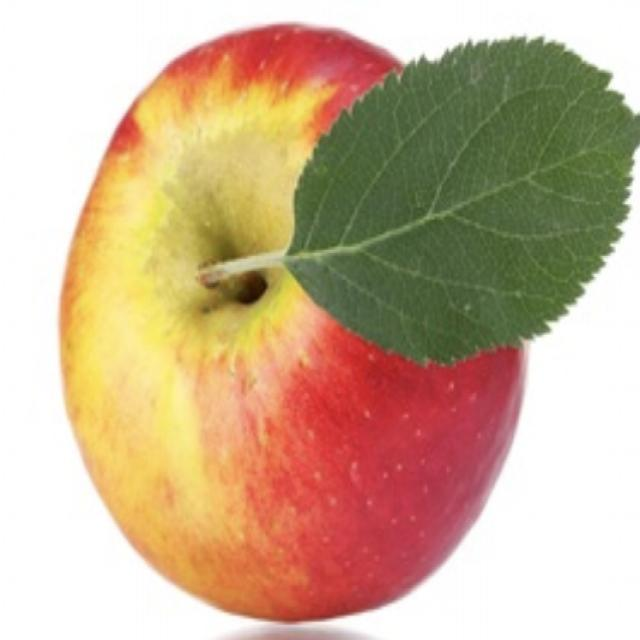Fresh Apple: (97, 43, 505, 592)
